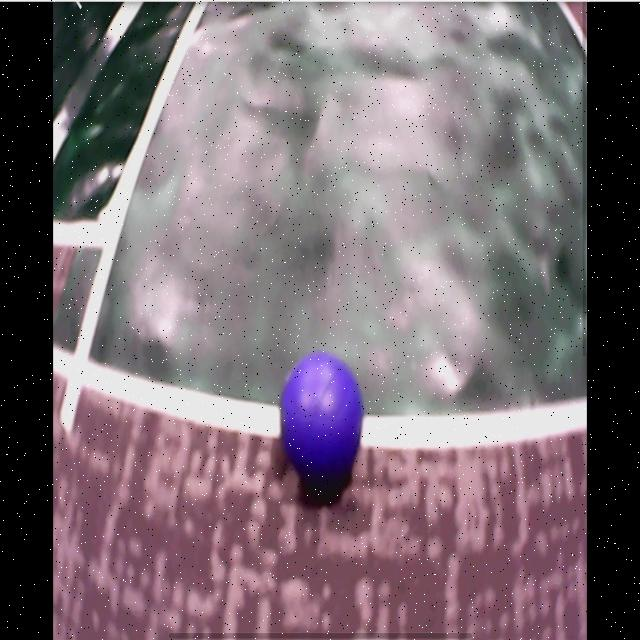ball: (281, 355, 364, 482)
